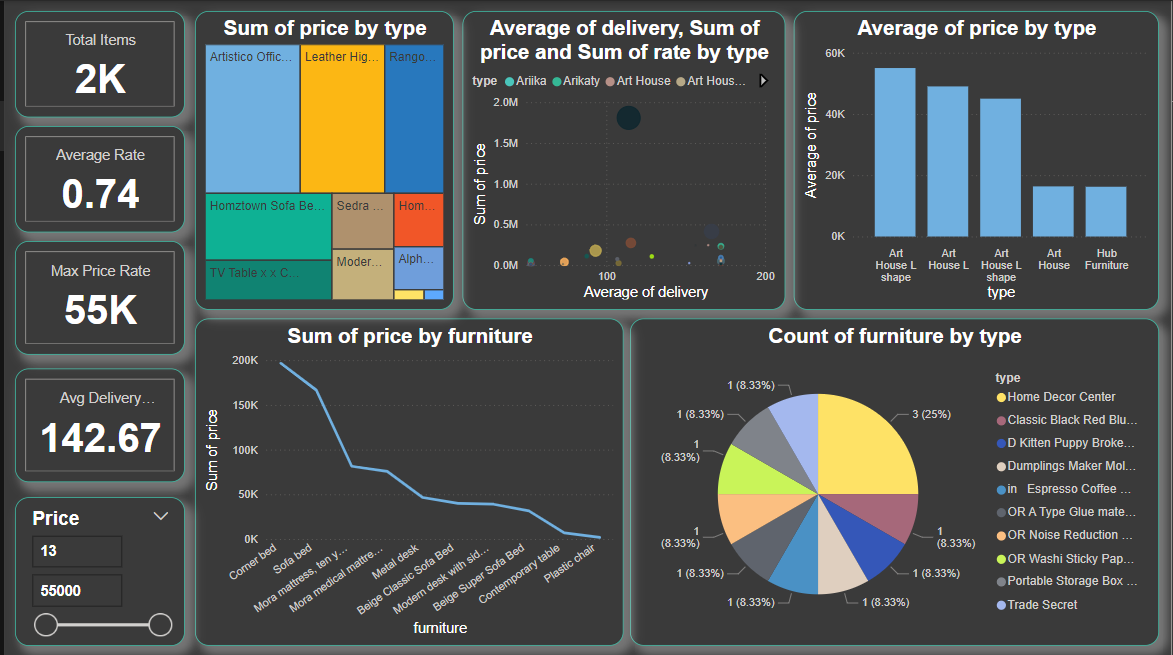

What the dashboard file says about the page in this screenshot:
{"tool":"powerbi","page":{"name":"Page 1","canvas":[1280,720],"ordinal":0},"visuals":[{"type":"cardVisual","fields":{"Data":["CountNonNull(Furniture Price Prediction.furniture)"]},"box":[11,11,186.6,116.6],"z":0},{"type":"cardVisual","fields":{"Data":["Avg(Furniture Price Prediction.rate)"]},"box":[11,137.2,186.6,116.6],"z":1000},{"type":"cardVisual","fields":{"Data":["Avg(Furniture Price Prediction.delivery)"]},"box":[11,403.4,186.6,124.9],"z":2000},{"type":"cardVisual","fields":{"Data":["Max(Furniture Price Prediction.price)"]},"box":[11,263.5,186.6,124.9],"z":3000},{"type":"columnChart","fields":{"Category":["Furniture Price Prediction.type"],"Y":["Avg(Furniture Price Prediction.price)"]},"box":[865.9,11,400.7,328],"z":4000},{"type":"scatterChart","fields":{"X":["Avg(Furniture Price Prediction.delivery)"],"Y":["Sum(Furniture Price Prediction.price)"],"Series":["Furniture Price Prediction.type"],"Size":["Sum(Furniture Price Prediction.rate)"]},"box":[502.2,11,354,328],"z":5000},{"type":"pieChart","fields":{"Category":["Furniture Price Prediction.type"],"Y":["CountNonNull(Furniture Price Prediction.furniture)"]},"box":[686.1,348.5,580.4,359.5],"z":6000},{"type":"lineChart","fields":{"Category":["Furniture Price Prediction.furniture"],"Y":["Sum(Furniture Price Prediction.price)"]},"box":[208.6,348.5,470.7,359.5],"z":7000},{"type":"treemap","fields":{"Group":["Furniture Price Prediction.type"],"Values":["Sum(Furniture Price Prediction.price)"]},"box":[208.6,11,284,328],"z":8000},{"type":"slicer","fields":{"Values":["Furniture Price Prediction.price"]},"box":[11,544.8,186.6,163.3],"z":9000}]}

Visuals, with their boxes in screenshot pixels (x1, y1, x2, y2), scaled from the page's 1280x720 canvas onto the 1173x655 screenshot:
cardVisual - CountNonNull(Furniture Price Prediction.furniture): crop(10, 10, 181, 116)
cardVisual - Avg(Furniture Price Prediction.rate): crop(10, 125, 181, 231)
cardVisual - Avg(Furniture Price Prediction.delivery): crop(10, 367, 181, 481)
cardVisual - Max(Furniture Price Prediction.price): crop(10, 240, 181, 353)
columnChart - Furniture Price Prediction.type x Avg(Furniture Price Prediction.price): crop(794, 10, 1161, 308)
scatterChart - Avg(Furniture Price Prediction.delivery) x Sum(Furniture Price Prediction.price): crop(460, 10, 785, 308)
pieChart - Furniture Price Prediction.type x CountNonNull(Furniture Price Prediction.furniture): crop(629, 317, 1161, 644)
lineChart - Furniture Price Prediction.furniture x Sum(Furniture Price Prediction.price): crop(191, 317, 623, 644)
treemap - Furniture Price Prediction.type x Sum(Furniture Price Prediction.price): crop(191, 10, 451, 308)
slicer - Furniture Price Prediction.price: crop(10, 496, 181, 644)
